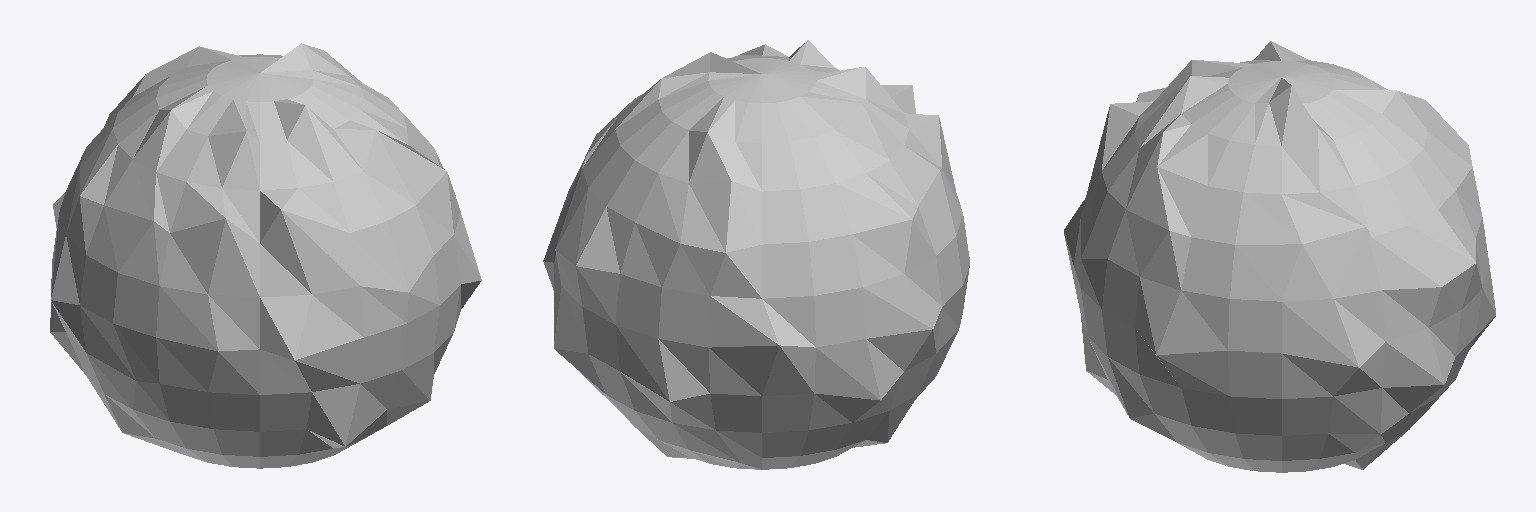
The model's file is deformedcircle.obj.
3 renders of one model, left to right at view 1: azimuth 30°, elevation 25°; view 2: azimuth 150°, elevation 25°; view 3: azimuth 270°, elevation 25°, orthographic.
Visible parts, largest first — view 1: Sphere; view 2: Sphere; view 3: Sphere.
Boxes of the visible parts, x1=… form: Sphere: x1=50, y1=43, x2=481, y2=468; Sphere: x1=543, y1=40, x2=969, y2=469; Sphere: x1=1064, y1=41, x2=1495, y2=472.
Size of the model in its own units: 225 by 227 by 228.